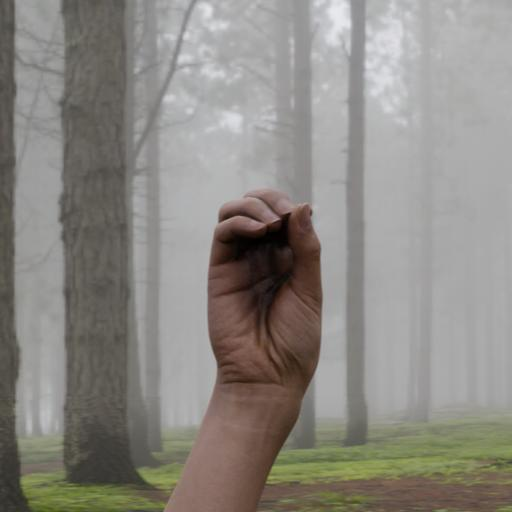O: (186, 169, 364, 433)
